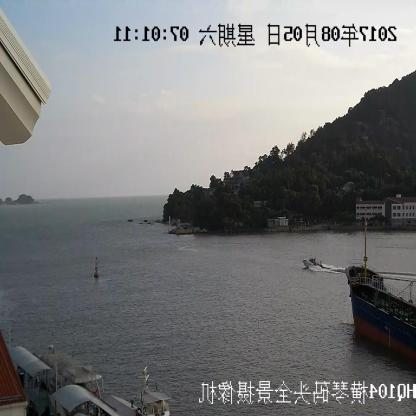Bulk Carrier: (348, 209, 416, 373)
